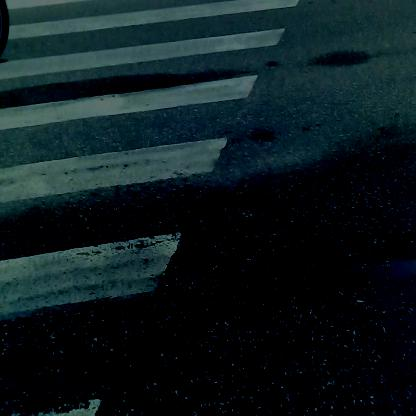crosswalk: (1, 1, 305, 409)
